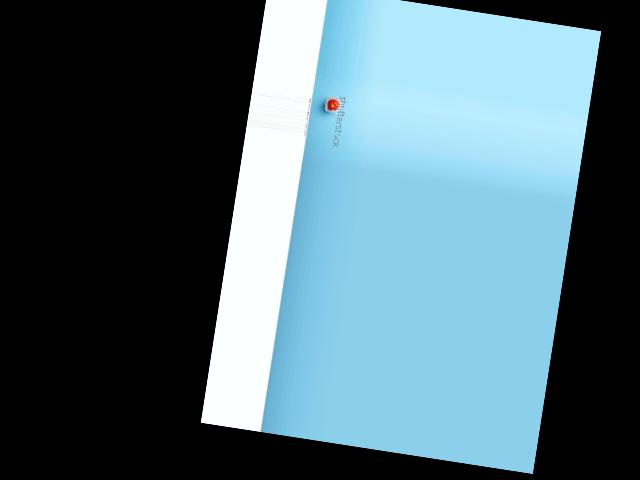tomato: (326, 99, 339, 111)
